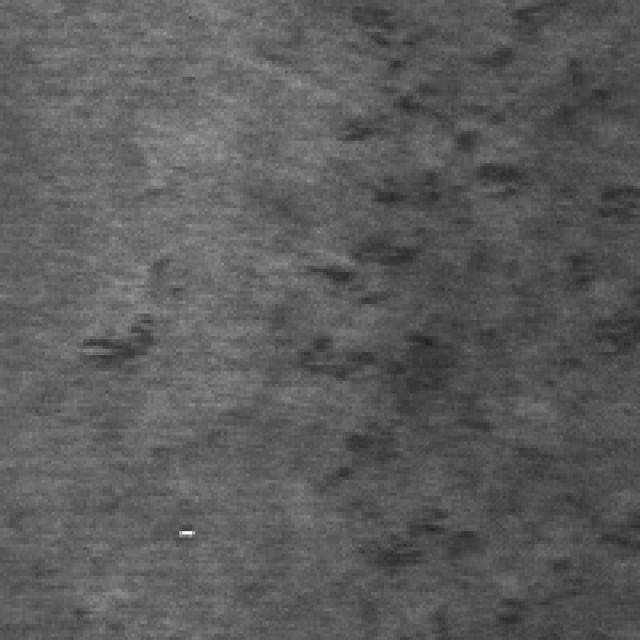rolled-in_scale: (327, 0, 612, 278), (307, 327, 586, 596)
